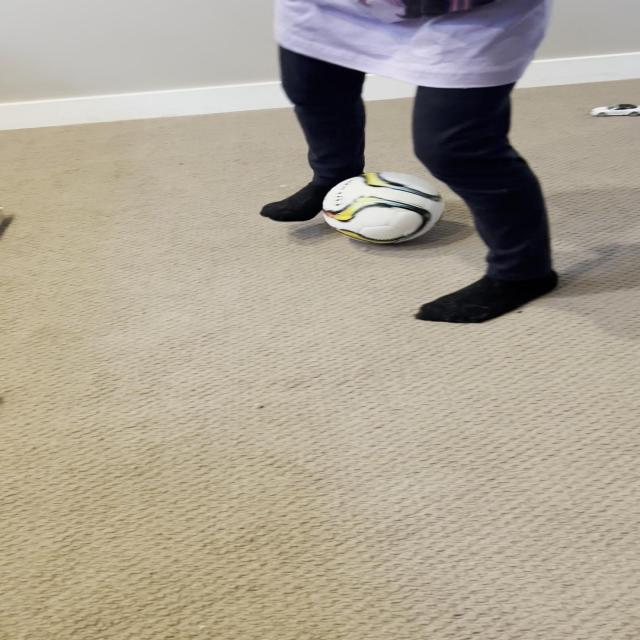Soccer Ball: (321, 171, 446, 244)
